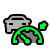ACC_OVER: (1, 12, 50, 46)
